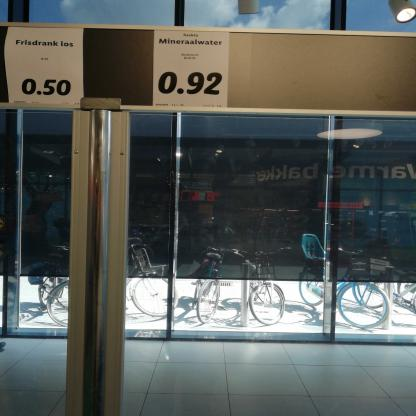prtg: (4, 27, 85, 106), (153, 31, 231, 108)
